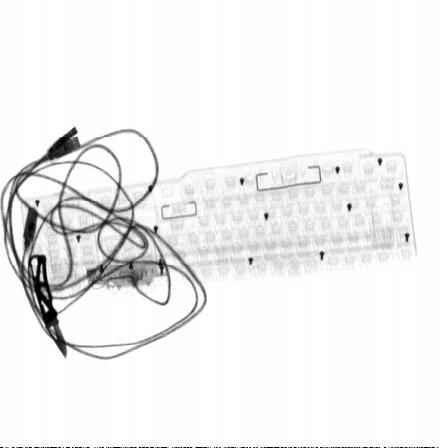Knife: (29, 253, 68, 362)
